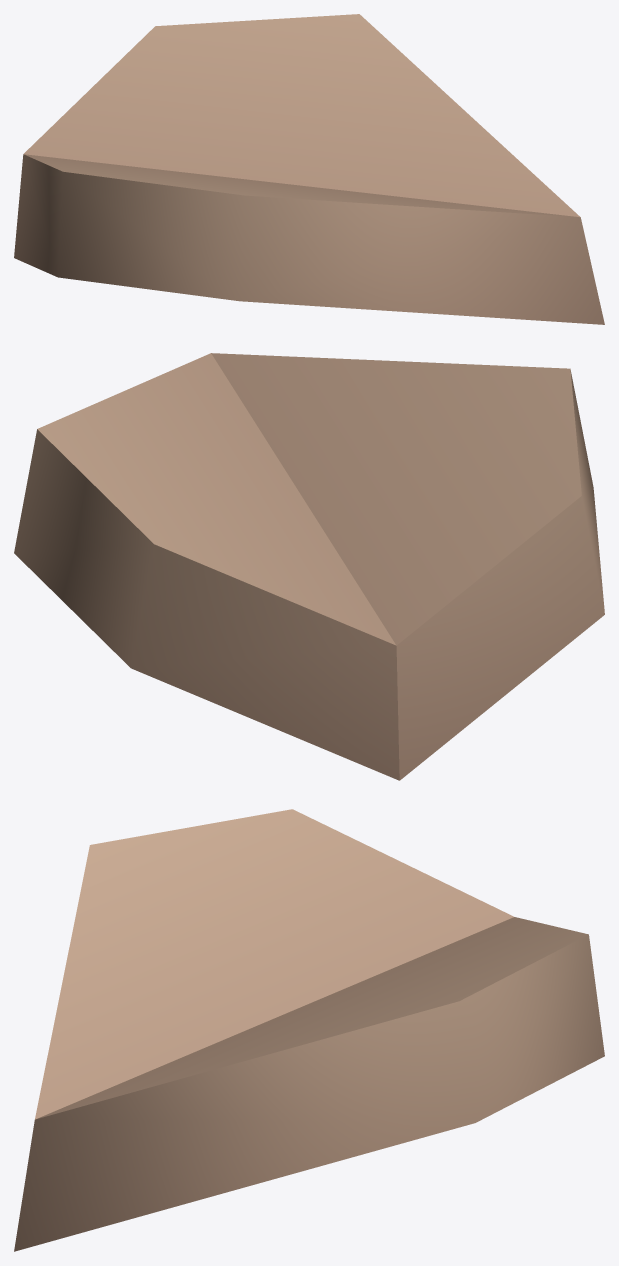
The model's file is (%no-merge) 49.glb.
3 views of the same model, one above another, from view 1: azimuth 30°, elevation 25°; view 2: azimuth 150°, elevation 25°; view 3: azimuth 270°, elevation 25° (orthographic). The views are drawn at different scales.
Visible parts, largest first — view 1: (%no-merge) 49; view 2: (%no-merge) 49; view 3: (%no-merge) 49.
Part boxes in pixels (x1=…): (%no-merge) 49: x1=14, y1=14, x2=604, y2=324; (%no-merge) 49: x1=14, y1=353, x2=604, y2=780; (%no-merge) 49: x1=14, y1=809, x2=604, y2=1251.
Bounding box in the file's own units: 0.1493 × 0.0609 × 0.1493.
